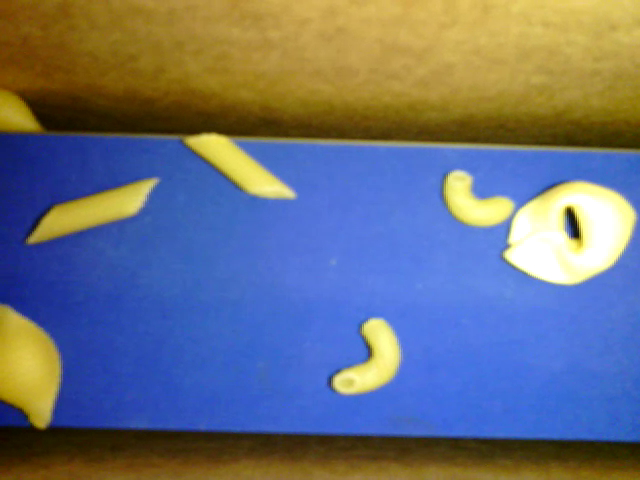elbow: (330, 317, 402, 394), (442, 170, 516, 228)
penne: (27, 176, 160, 244), (182, 131, 297, 199)
shell: (1, 302, 62, 428)
tortellini: (503, 179, 637, 287)
